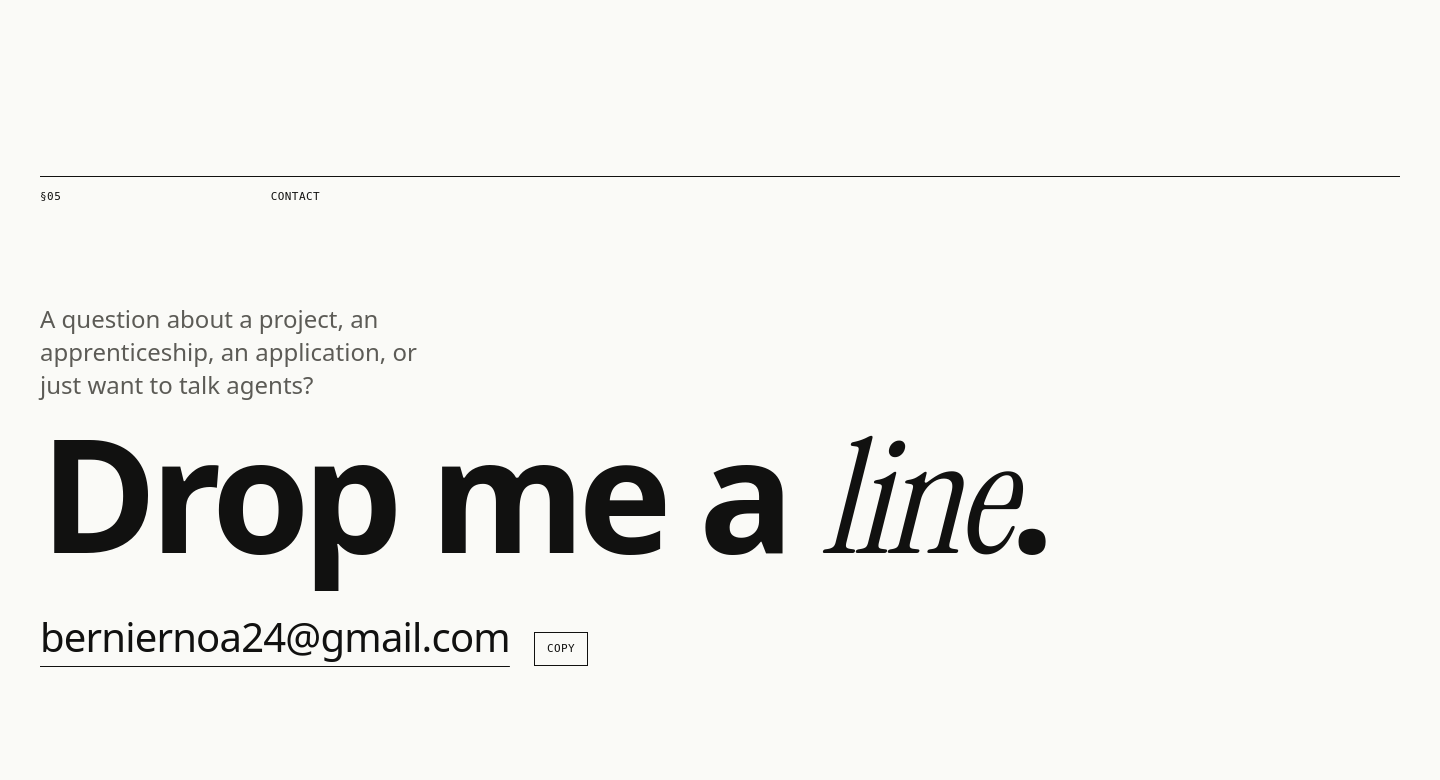
Test: bouton Copier › parle anglais sur la page anglaise
The width and height of the screenshot is (1440, 780).
Click the button "Copy": (561, 649) [534, 632, 588, 666]
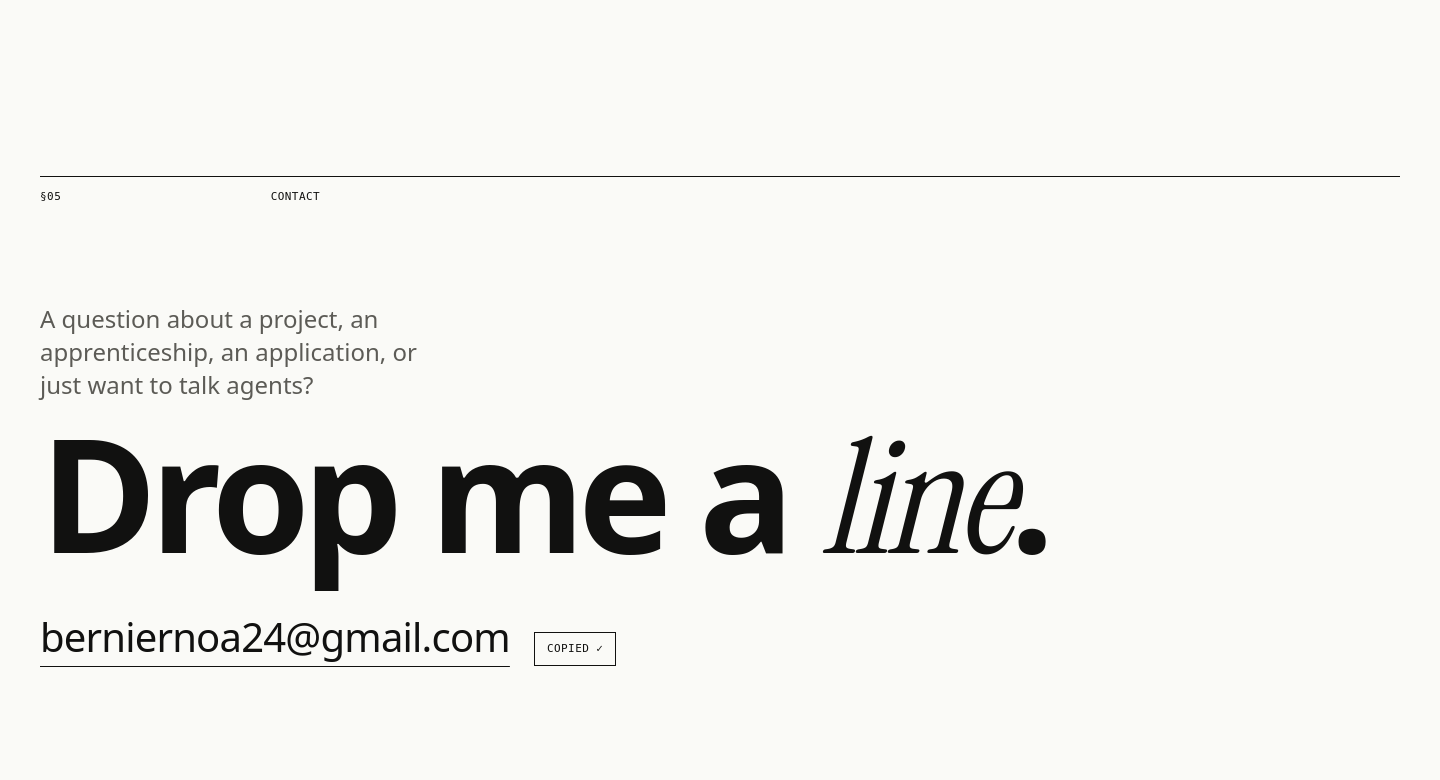
Result: the button "Copied ✓" is shown at [534, 632, 616, 666]
